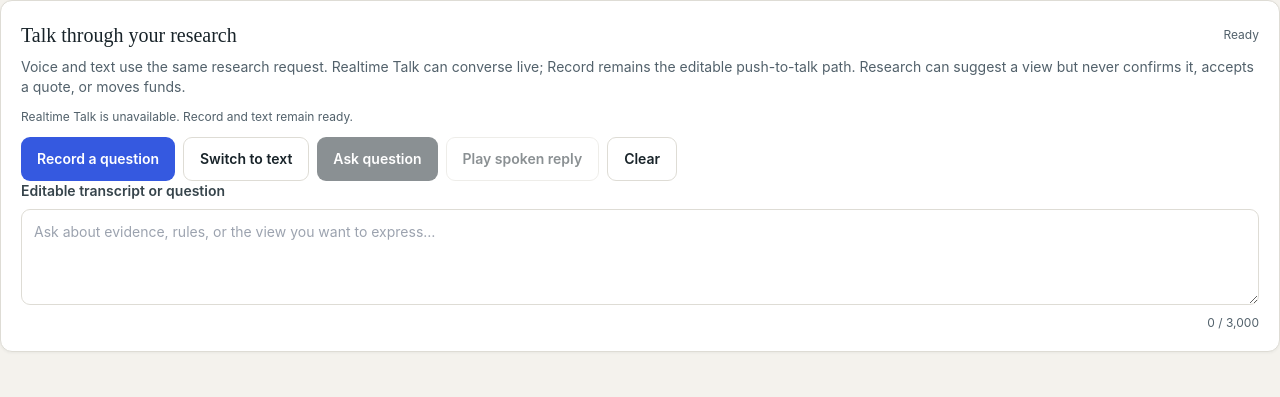
it: VoicePanel interaction flows › explains NotReadableError microphone errors and leaves text available
Click the button "Record a question". click: (98, 159)
box: [21, 137, 175, 181]
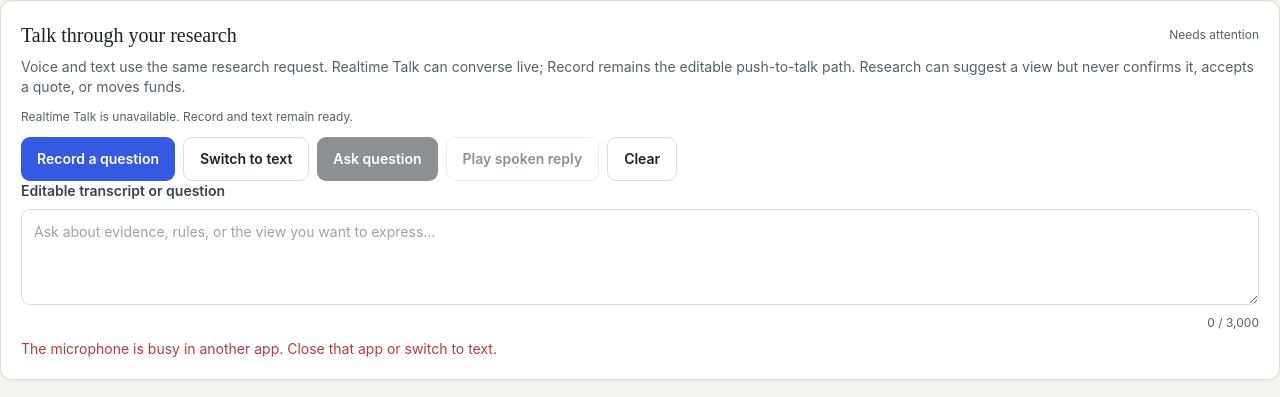
Expected: the button "Switch to text" is enabled, [183, 137, 309, 181]
Expected: the text "The microphone is busy in another app. Close that app or switch to text." is shown, [21, 340, 497, 357]
